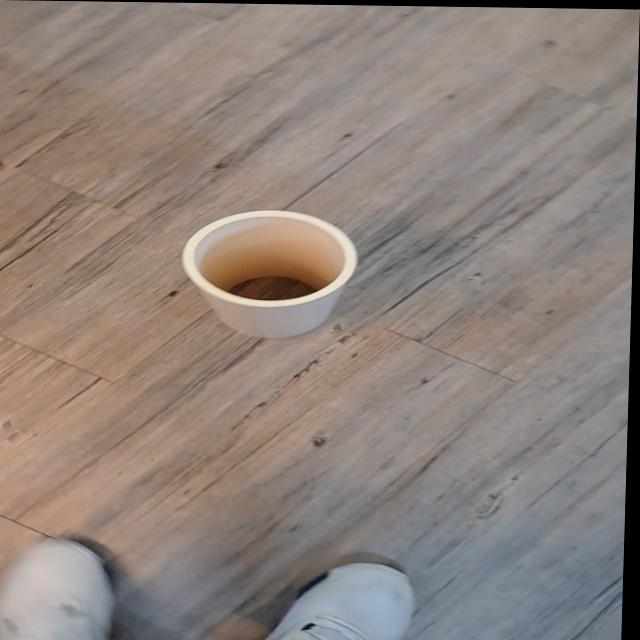CORAL: (168, 197, 392, 344)
